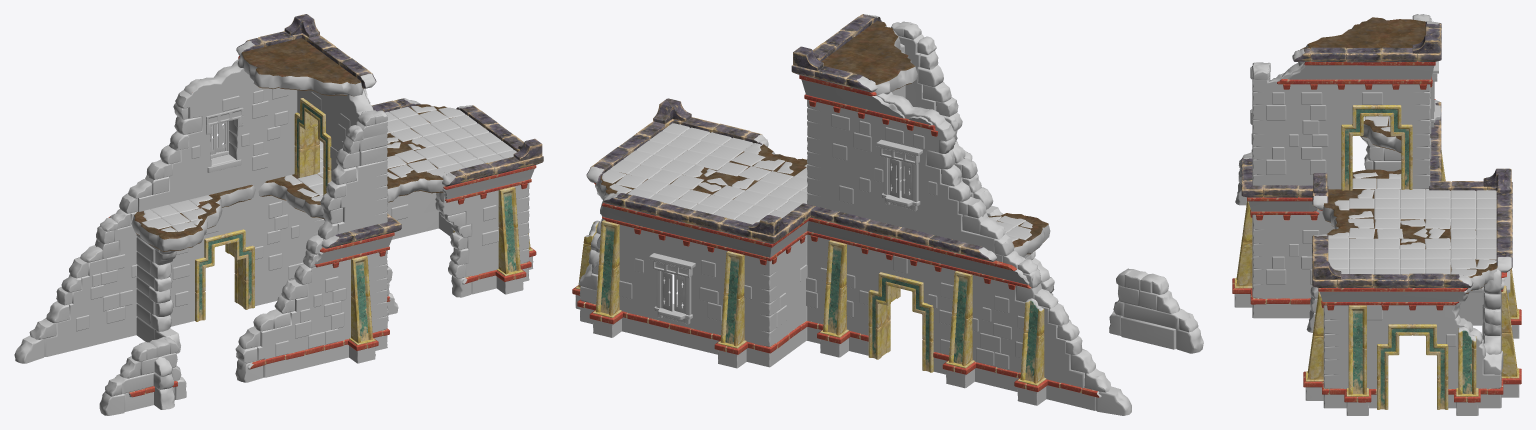
3 views of the same model, side by side, from view 1: azimuth 30°, elevation 25°; view 2: azimuth 150°, elevation 25°; view 3: azimuth 270°, elevation 25° (orthographic). The views are drawn at different scales.
Visible parts, largest first — view 1: SM_Menaphite_Ruins_06_LOD0; view 2: SM_Menaphite_Ruins_06_LOD0; view 3: SM_Menaphite_Ruins_06_LOD0.
Boxes of the visible parts, bbox=[...] form: SM_Menaphite_Ruins_06_LOD0: bbox=[14, 14, 543, 415]; SM_Menaphite_Ruins_06_LOD0: bbox=[572, 14, 1203, 415]; SM_Menaphite_Ruins_06_LOD0: bbox=[1232, 14, 1521, 415].
Bounding box in the file's own units: 33.16 × 17.47 × 16.27.
